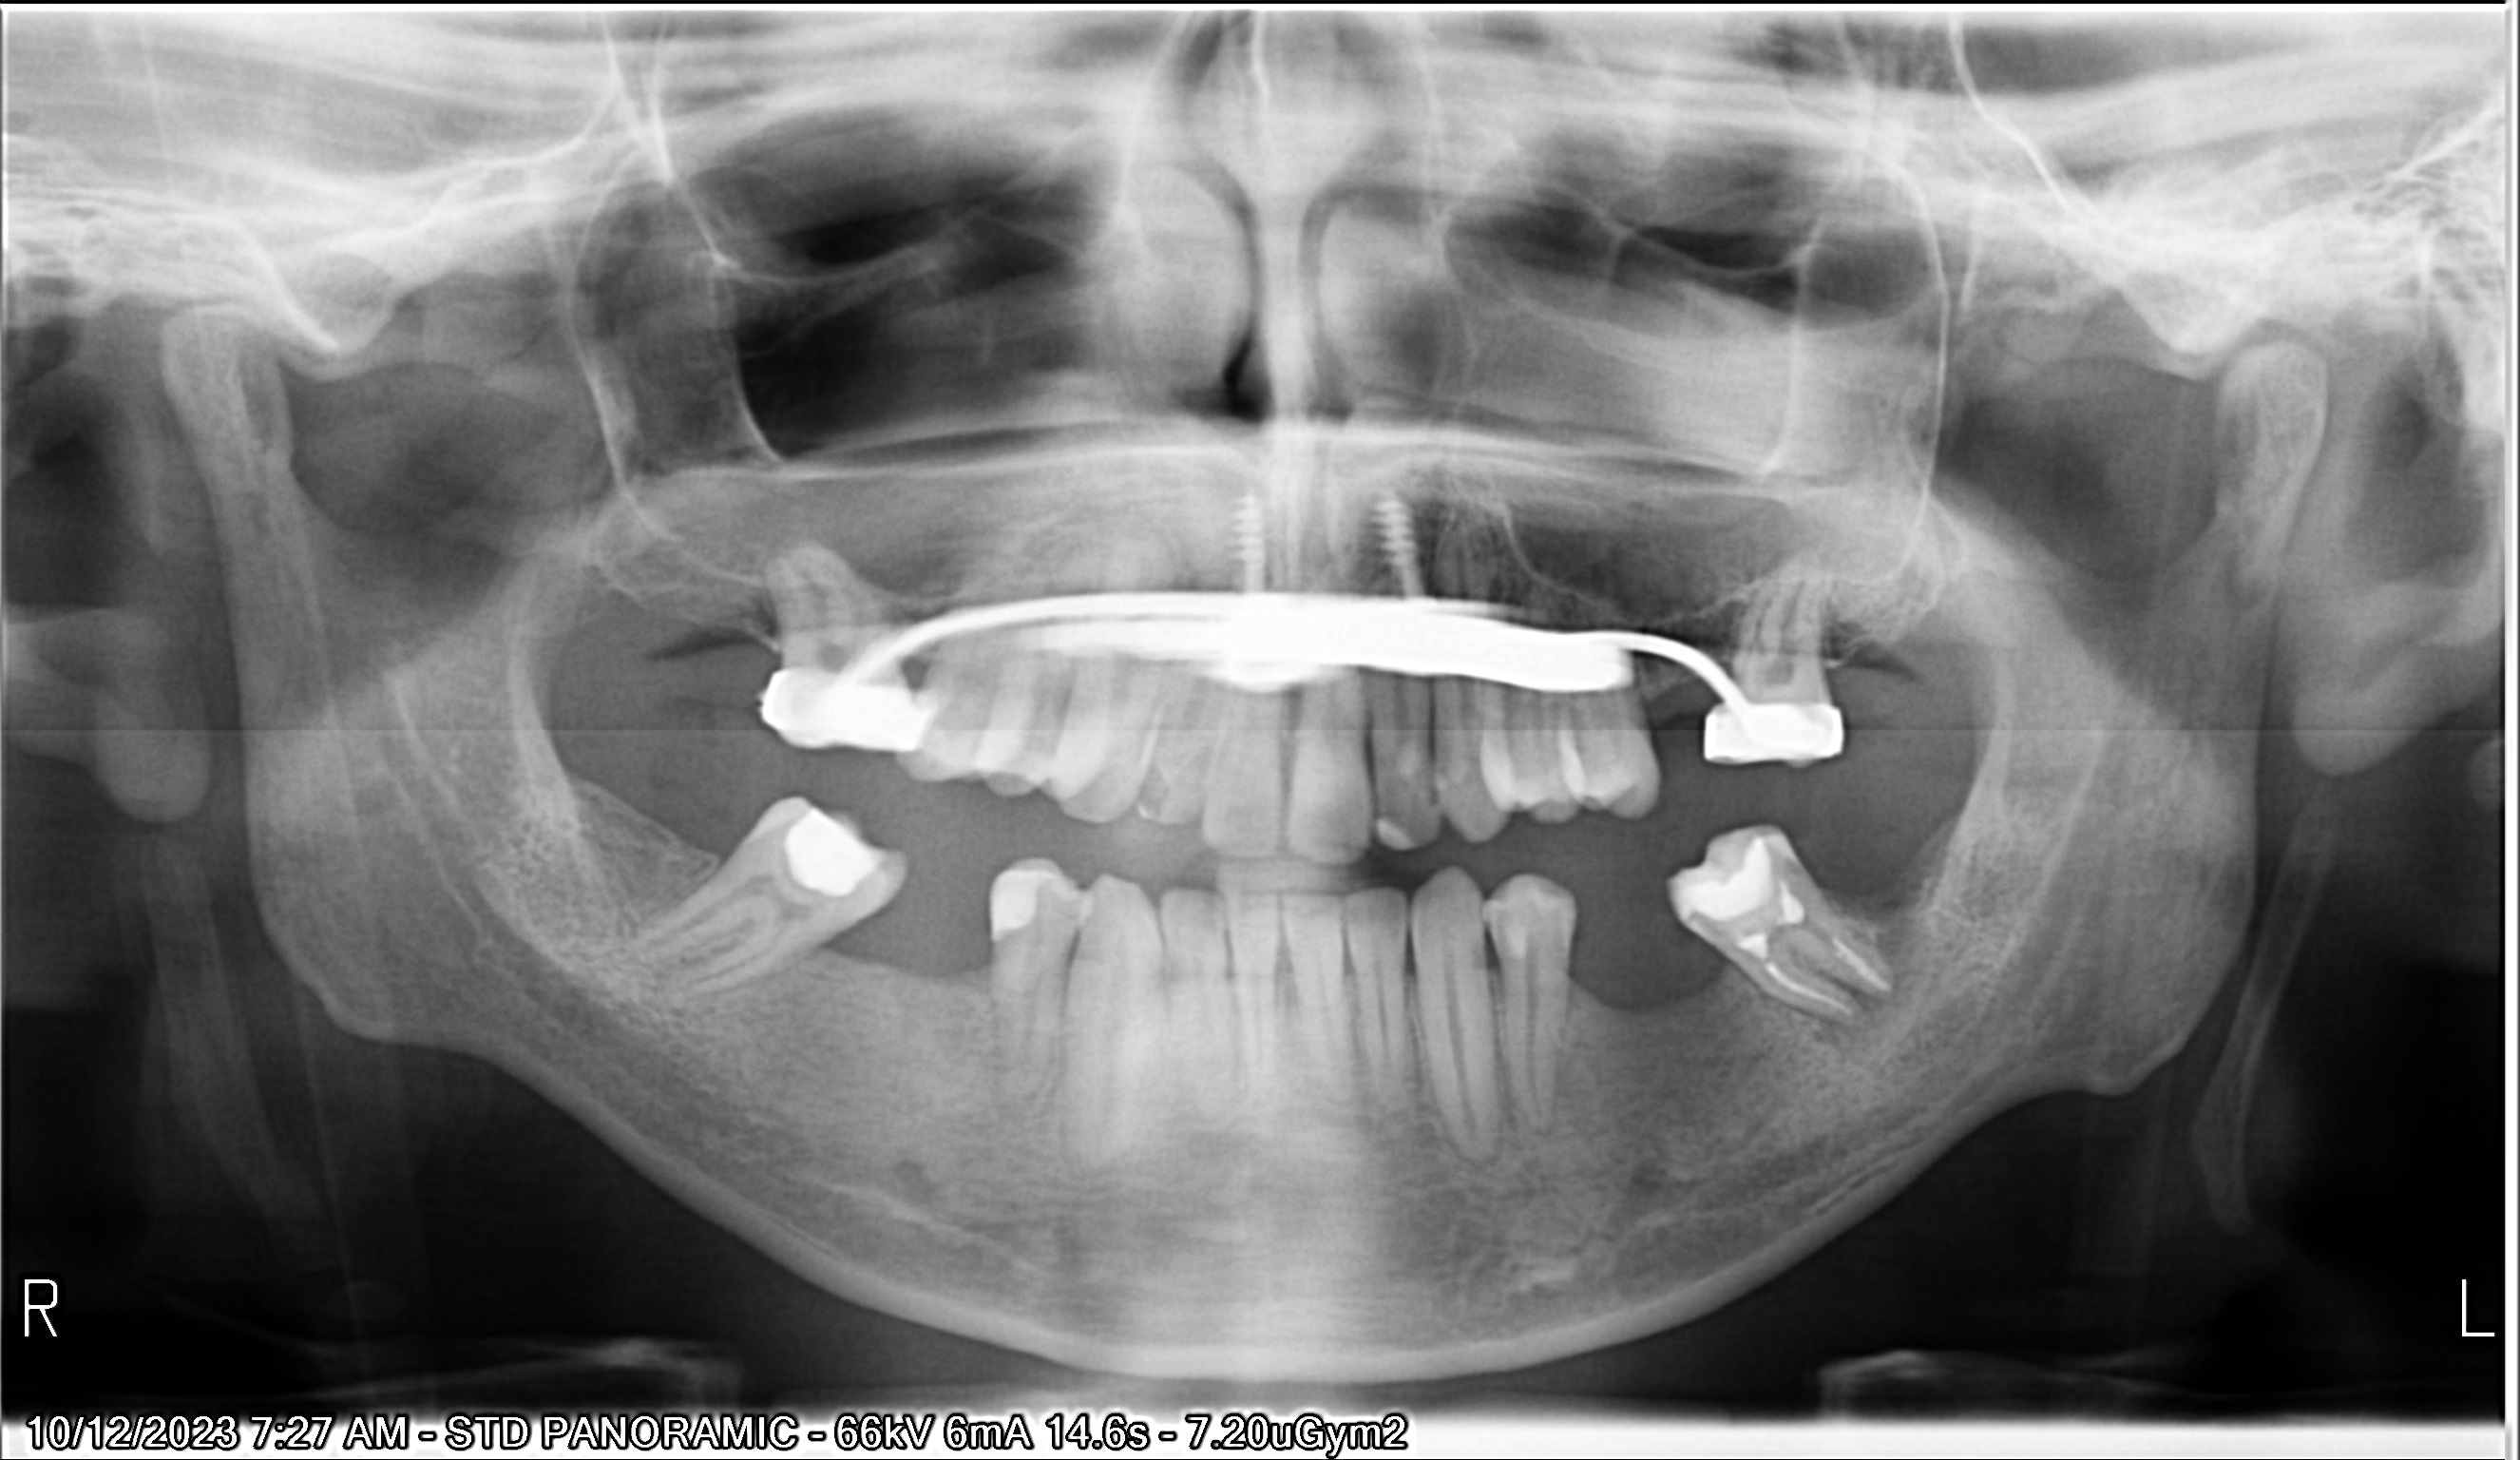API: (1801, 947, 1924, 1078)
CAR: (1125, 749, 1193, 824)
OBT: (762, 784, 896, 909), (1671, 822, 1808, 925), (969, 855, 1061, 947)
ORD: (752, 509, 1874, 805)
